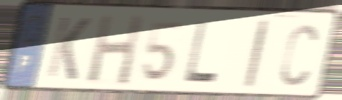5: (138, 19, 186, 83)
C: (278, 21, 320, 89)
H: (84, 12, 146, 88)
I: (241, 17, 271, 90)
K: (44, 14, 93, 83)
L: (182, 20, 220, 85)
